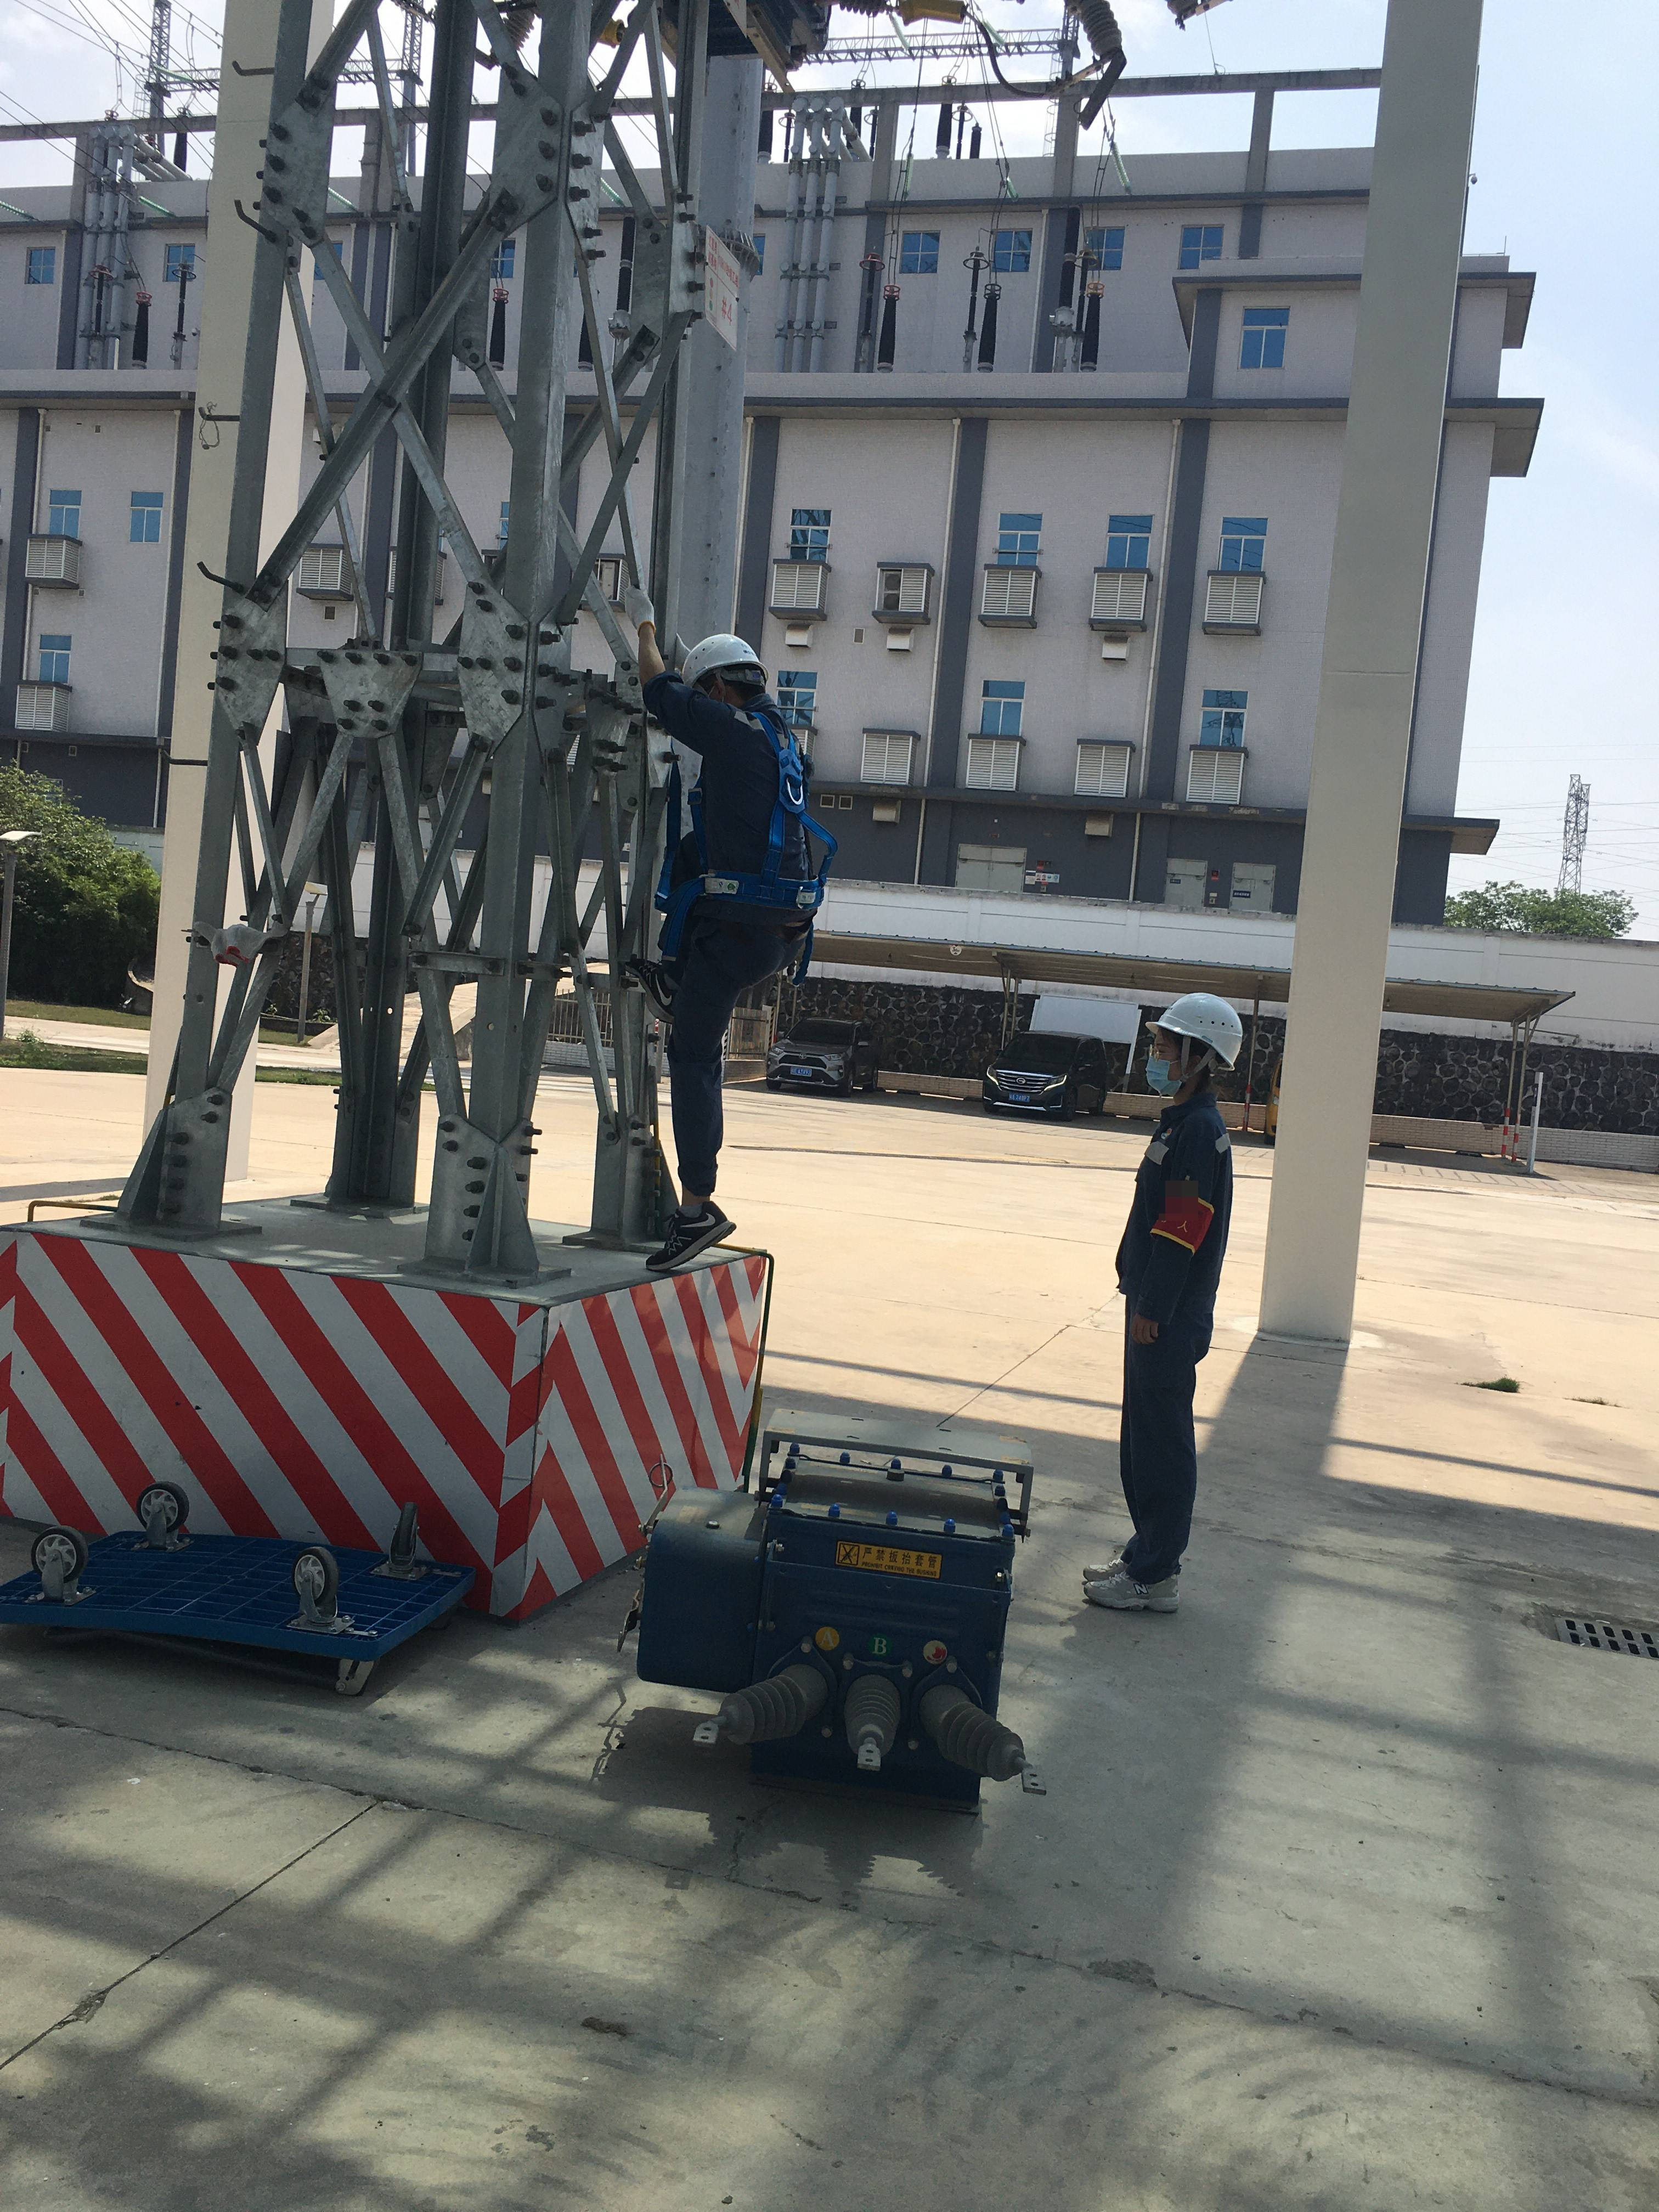downsuit: (660, 906, 788, 1205), (1121, 1318, 1223, 1555)
upsuit: (669, 697, 814, 902), (1117, 1111, 1225, 1308)
wrongtop: (636, 618, 676, 712)
